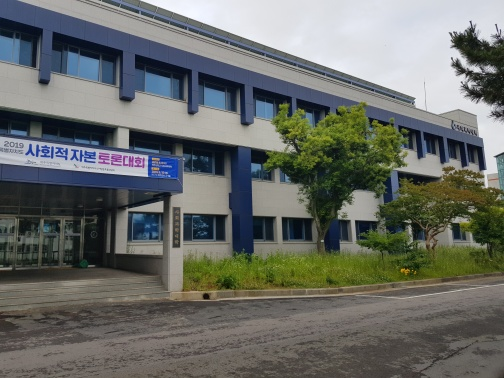College of Social Sciences: (8, 7, 492, 302), (1, 122, 195, 307), (40, 15, 261, 128)
